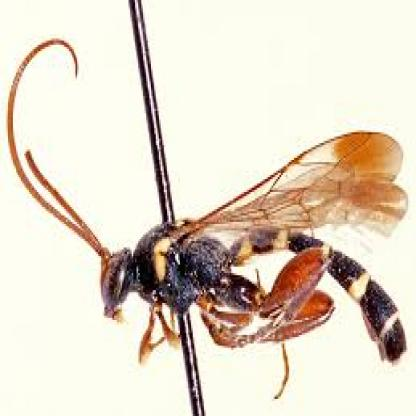sawfly: (5, 37, 416, 400)
